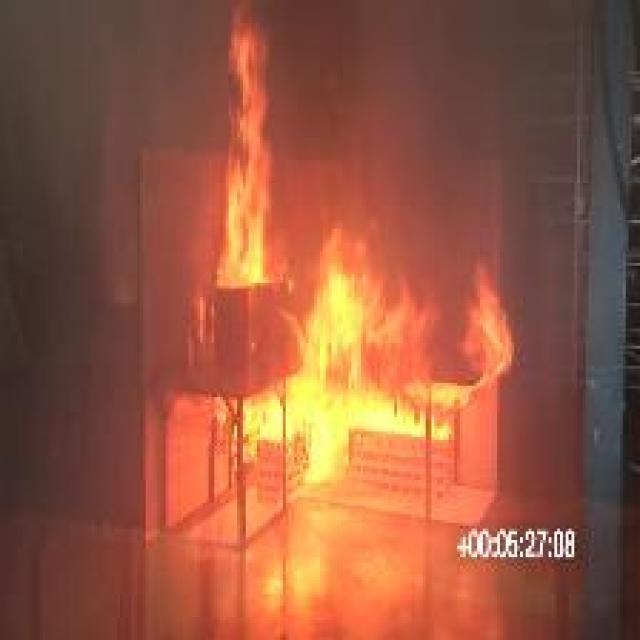Fire: (244, 228, 516, 486), (214, 0, 286, 286)
